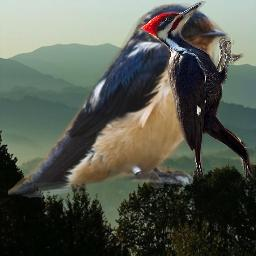Swallow: (8, 2, 231, 199)
Woodpecker: (139, 1, 255, 179)
